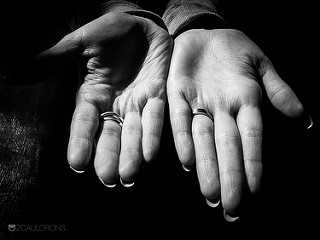palm: (175, 31, 264, 127), (89, 13, 164, 120)
